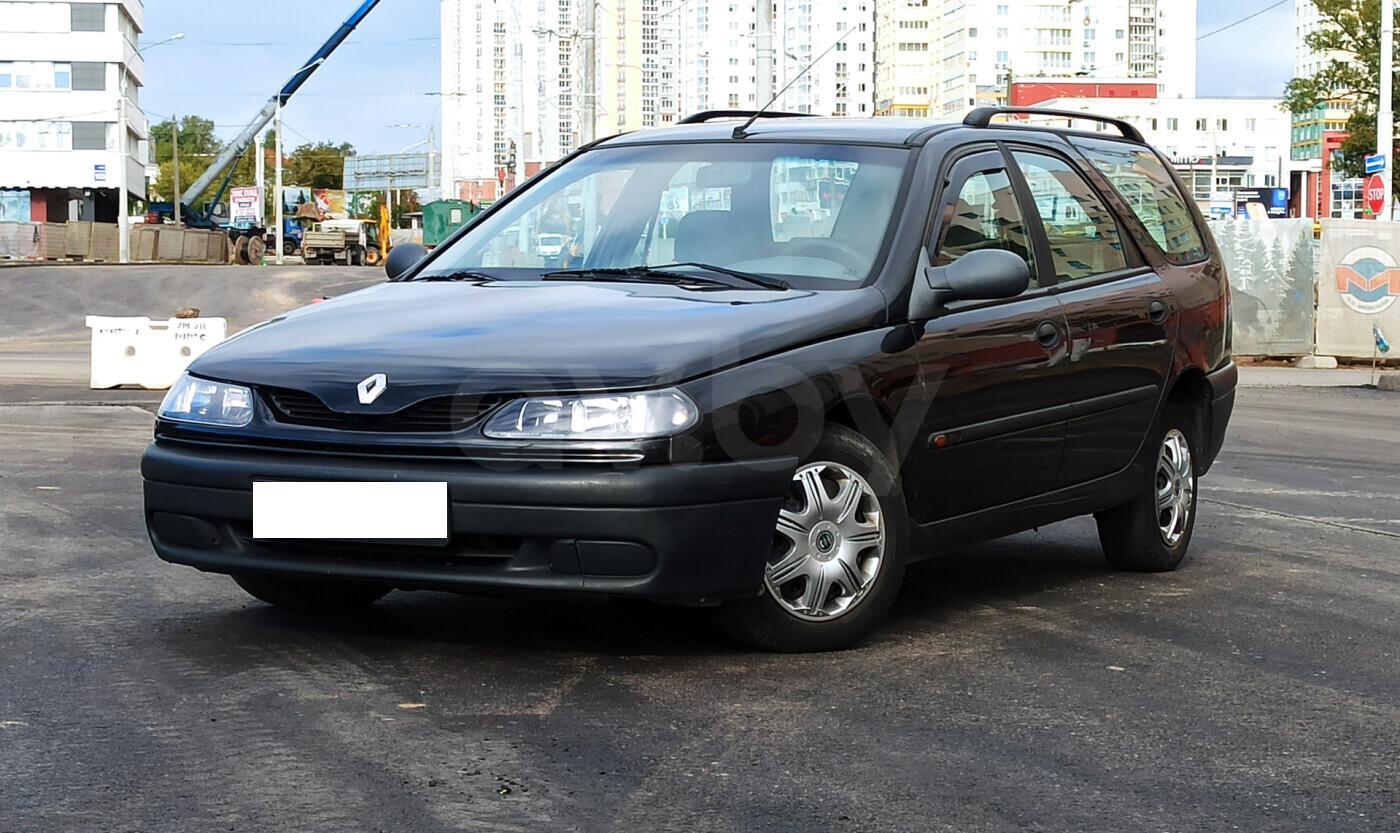Lahuna_1993-1999: (139, 96, 1240, 650)
